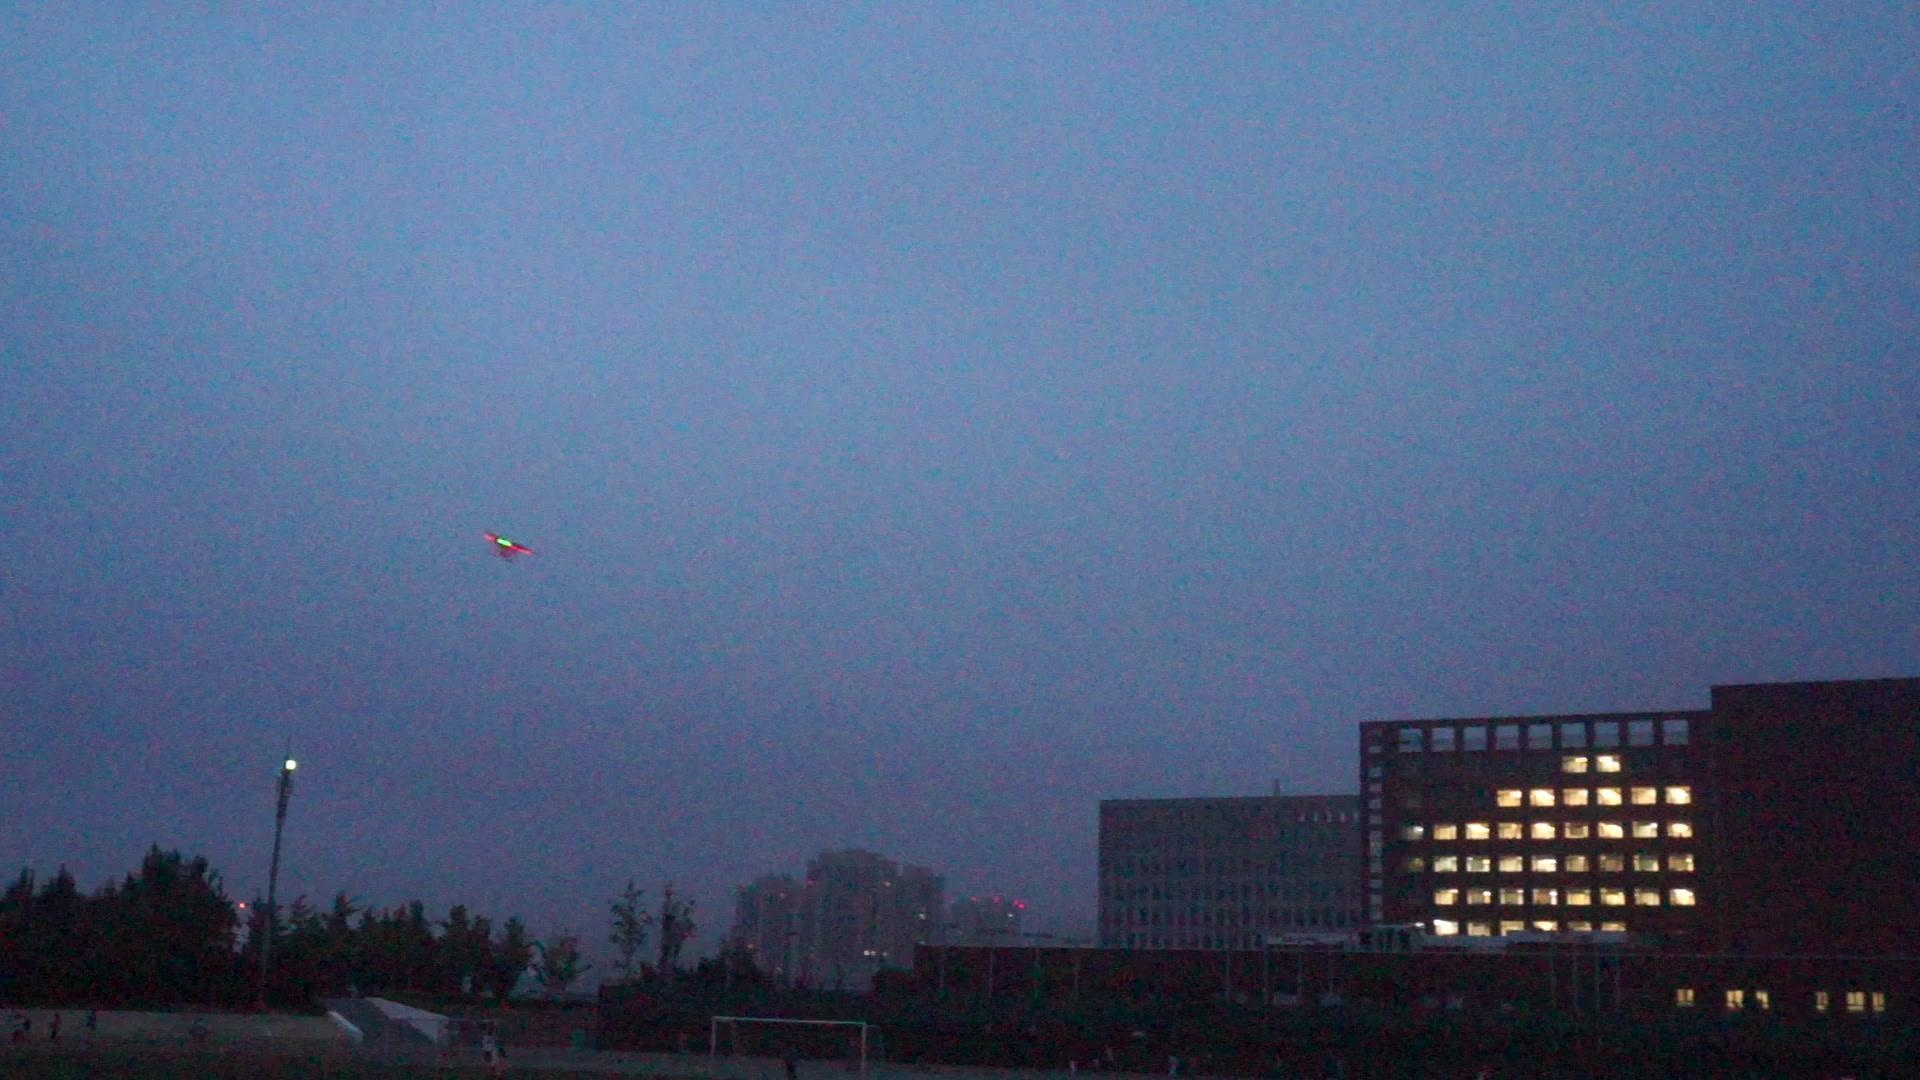UAV: (483, 531, 535, 564)
